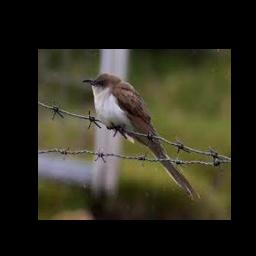Cuckoo: (82, 73, 201, 199)
